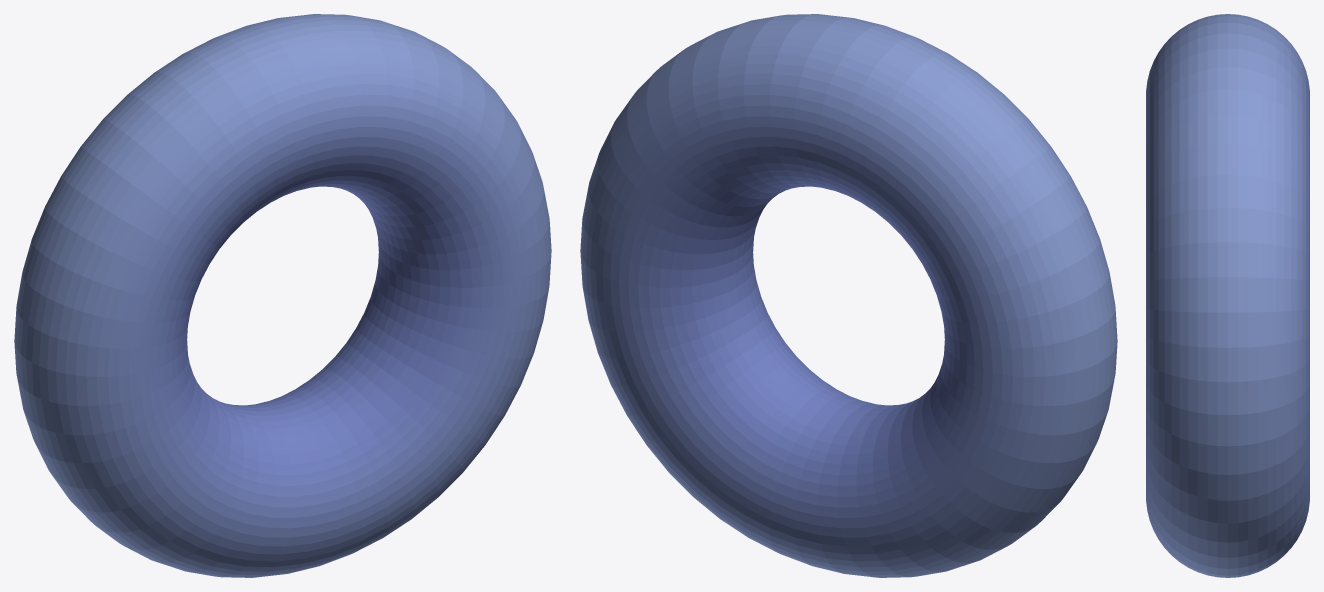
3 views of the same model, side by side, from view 1: azimuth 30°, elevation 25°; view 2: azimuth 150°, elevation 25°; view 3: azimuth 270°, elevation 25° (orthographic). The views are drawn at different scales.
Parts seen in each view (by area): view 1: world; view 2: world; view 3: world.
Part boxes in pixels (x1,y1,x2,y2): world: (14, 14, 551, 577); world: (580, 14, 1117, 577); world: (1146, 14, 1309, 577).
Bounding box in the file's own units: 17.87 × 17.83 × 5.19.
